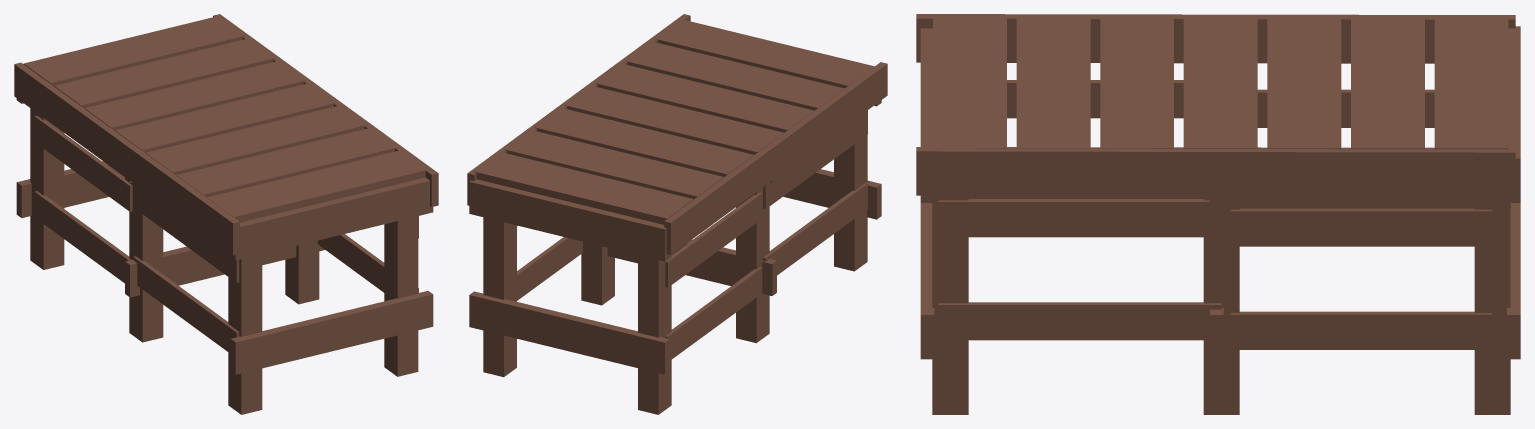
The model's file is Base_Trilho_reto.fbx.
The picture shows the model from 3 angles, left to right: view 1: azimuth 30°, elevation 25°; view 2: azimuth 150°, elevation 25°; view 3: azimuth 270°, elevation 25°; orthographic projection. The views are drawn at different scales.
Visible parts, largest first — view 1: base_trilho; view 2: base_trilho; view 3: base_trilho.
Part boxes in pixels (box(x1,y1,x2,y2)): base_trilho: box(14, 14, 438, 414); base_trilho: box(467, 14, 887, 414); base_trilho: box(916, 14, 1520, 414).
Bounding box in the file's own units: 223 × 207 × 415.
